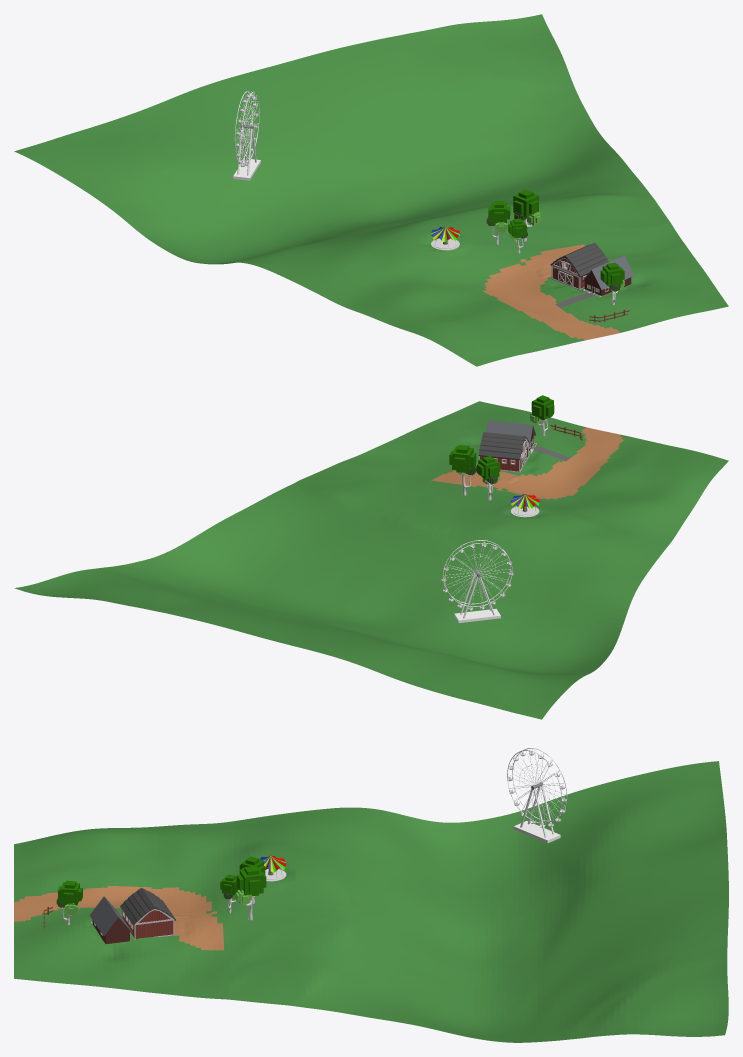
The model's file is menu5.fbx.
3 renders of one model, top to bottom at view 1: azimuth 30°, elevation 25°; view 2: azimuth 150°, elevation 25°; view 3: azimuth 270°, elevation 25°, orthographic. The views are drawn at different scales.
Parts seen in each view (by area): view 1: terreno, terreno.001, Barn_Cube.005, Sphere.007; view 2: terreno, terreno.001, Barn_Cube.005, telhado, Sphere.007; view 3: terreno, terreno.001, Barn_Cube.005, Sphere.007, telhado, casa, Sphere.001, Cubo.
Boxes of the visible parts, left/top/right/bottom form: terreno: left=14, top=14, right=728, bottom=366; terreno.001: left=488, top=244, right=620, bottom=340; Barn_Cube.005: left=550, top=243, right=608, bottom=289; Sphere.007: left=513, top=189, right=538, bottom=218; terreno: left=14, top=401, right=728, bottom=719; terreno.001: left=431, top=427, right=624, bottom=497; Barn_Cube.005: left=478, top=432, right=529, bottom=472; telhado: left=486, top=420, right=536, bottom=446; Sphere.007: left=449, top=445, right=476, bottom=472; terreno: left=14, top=761, right=728, bottom=1042; terreno.001: left=14, top=886, right=224, bottom=950; Barn_Cube.005: left=120, top=888, right=175, bottom=939; Sphere.007: left=236, top=866, right=266, bottom=896; telhado: left=89, top=896, right=132, bottom=935; casa: left=92, top=917, right=129, bottom=943; Sphere.001: left=58, top=880, right=82, bottom=905; Cubo: left=513, top=821, right=560, bottom=843.
Size of the model in its own units: 5607 by 1311 by 6047.
